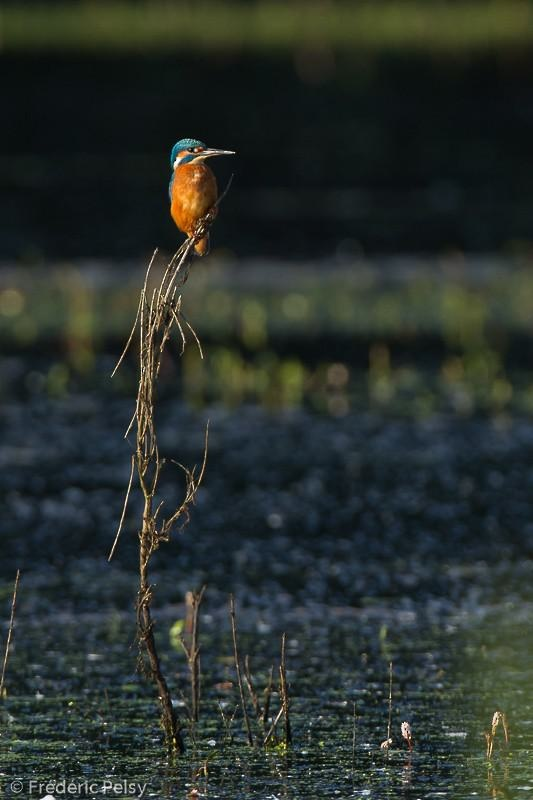kingfisher: (164, 129, 230, 263)
